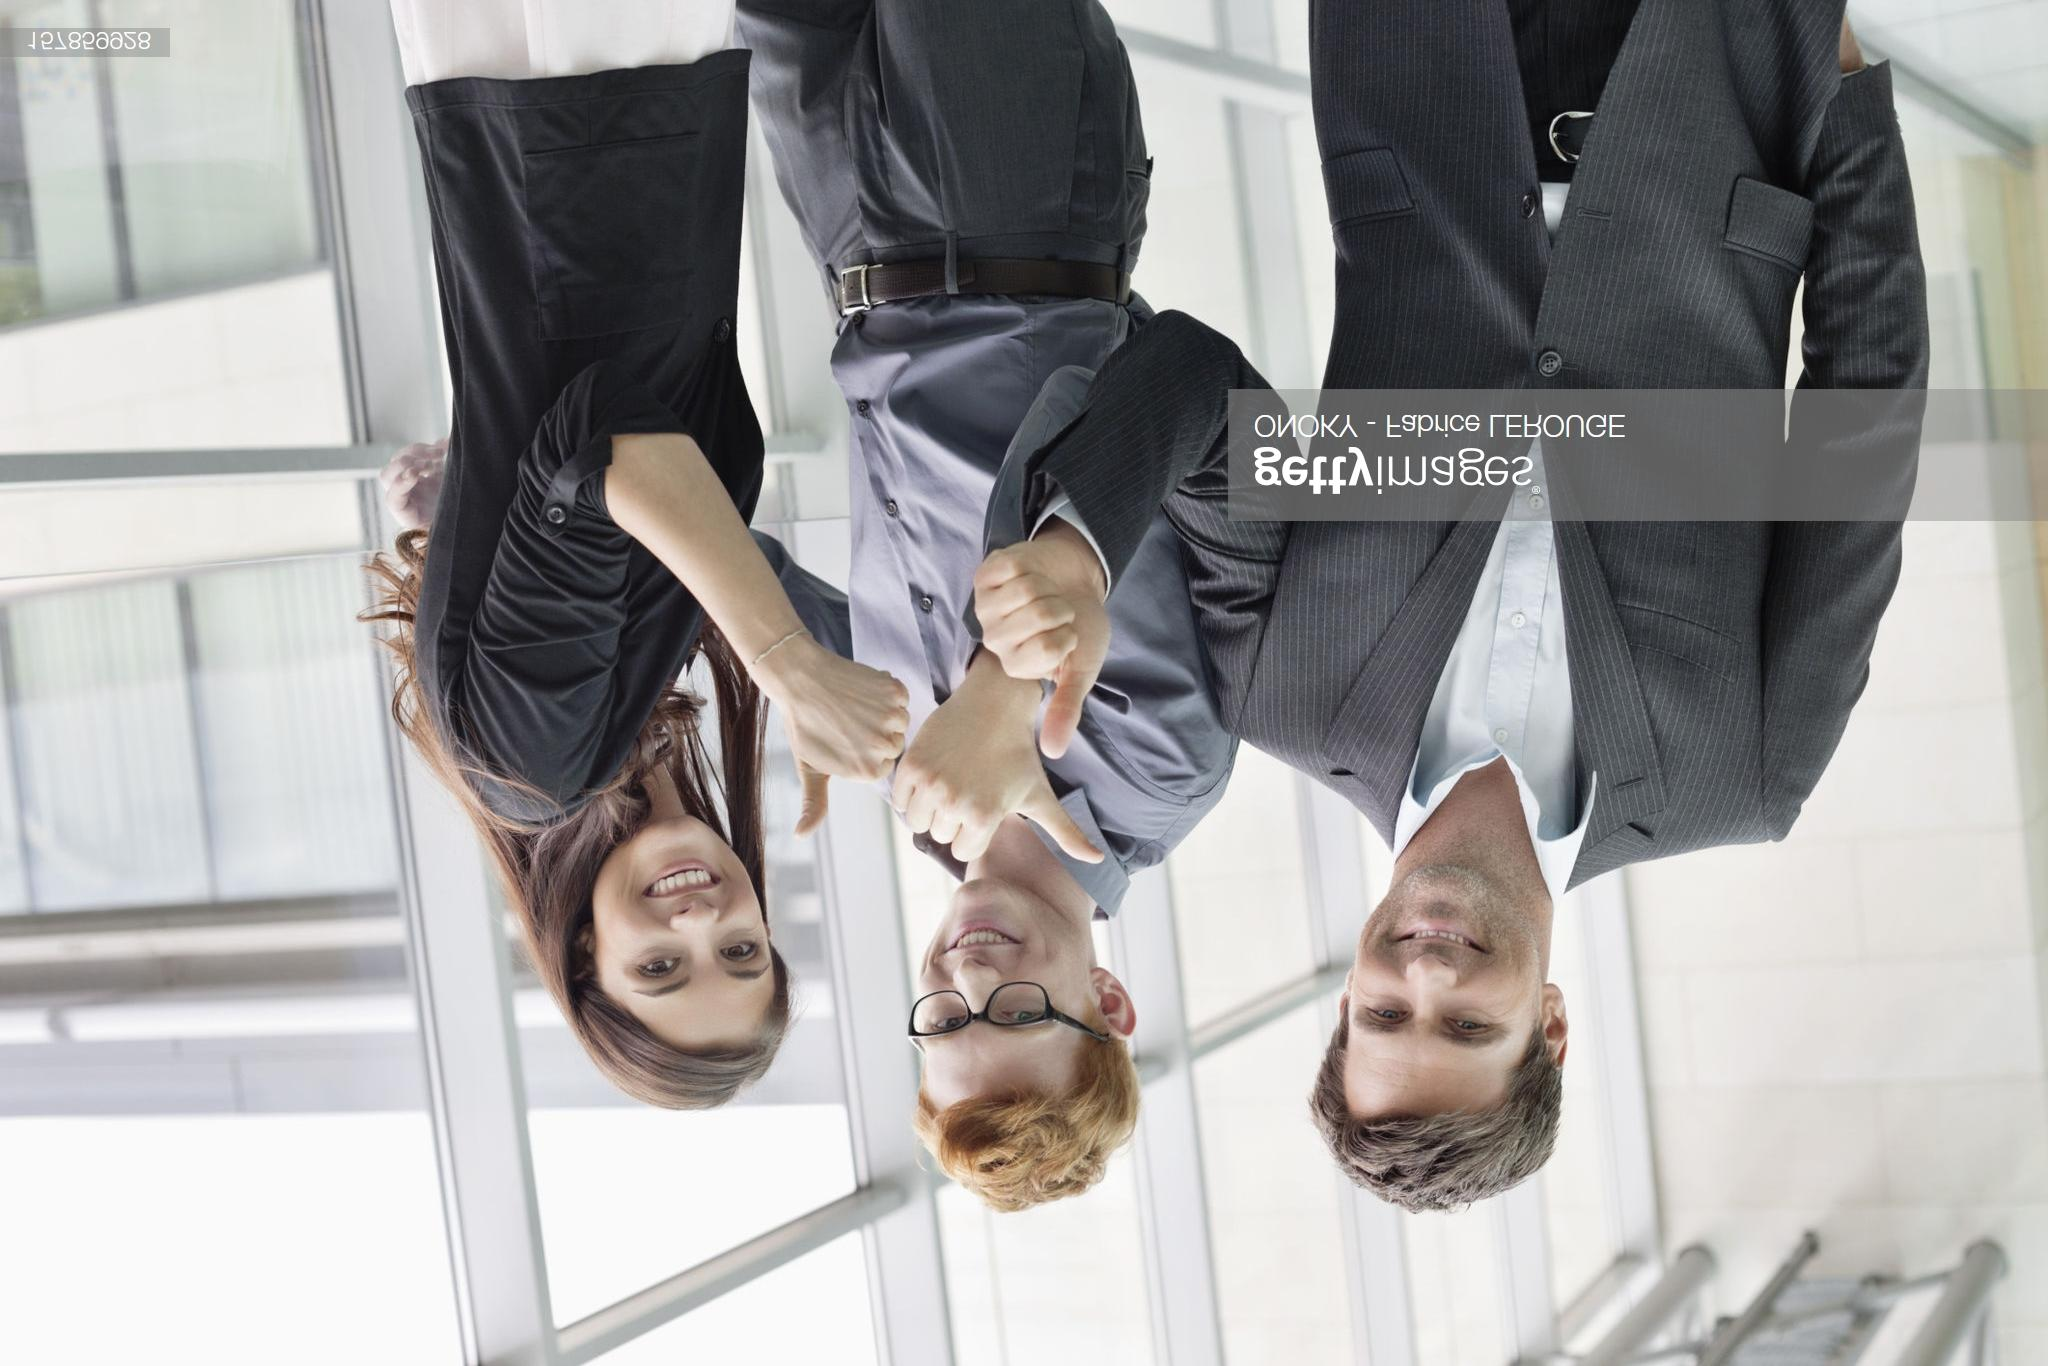thumbsdown: (972, 547, 1085, 761), (887, 758, 1106, 866), (791, 668, 911, 840)
